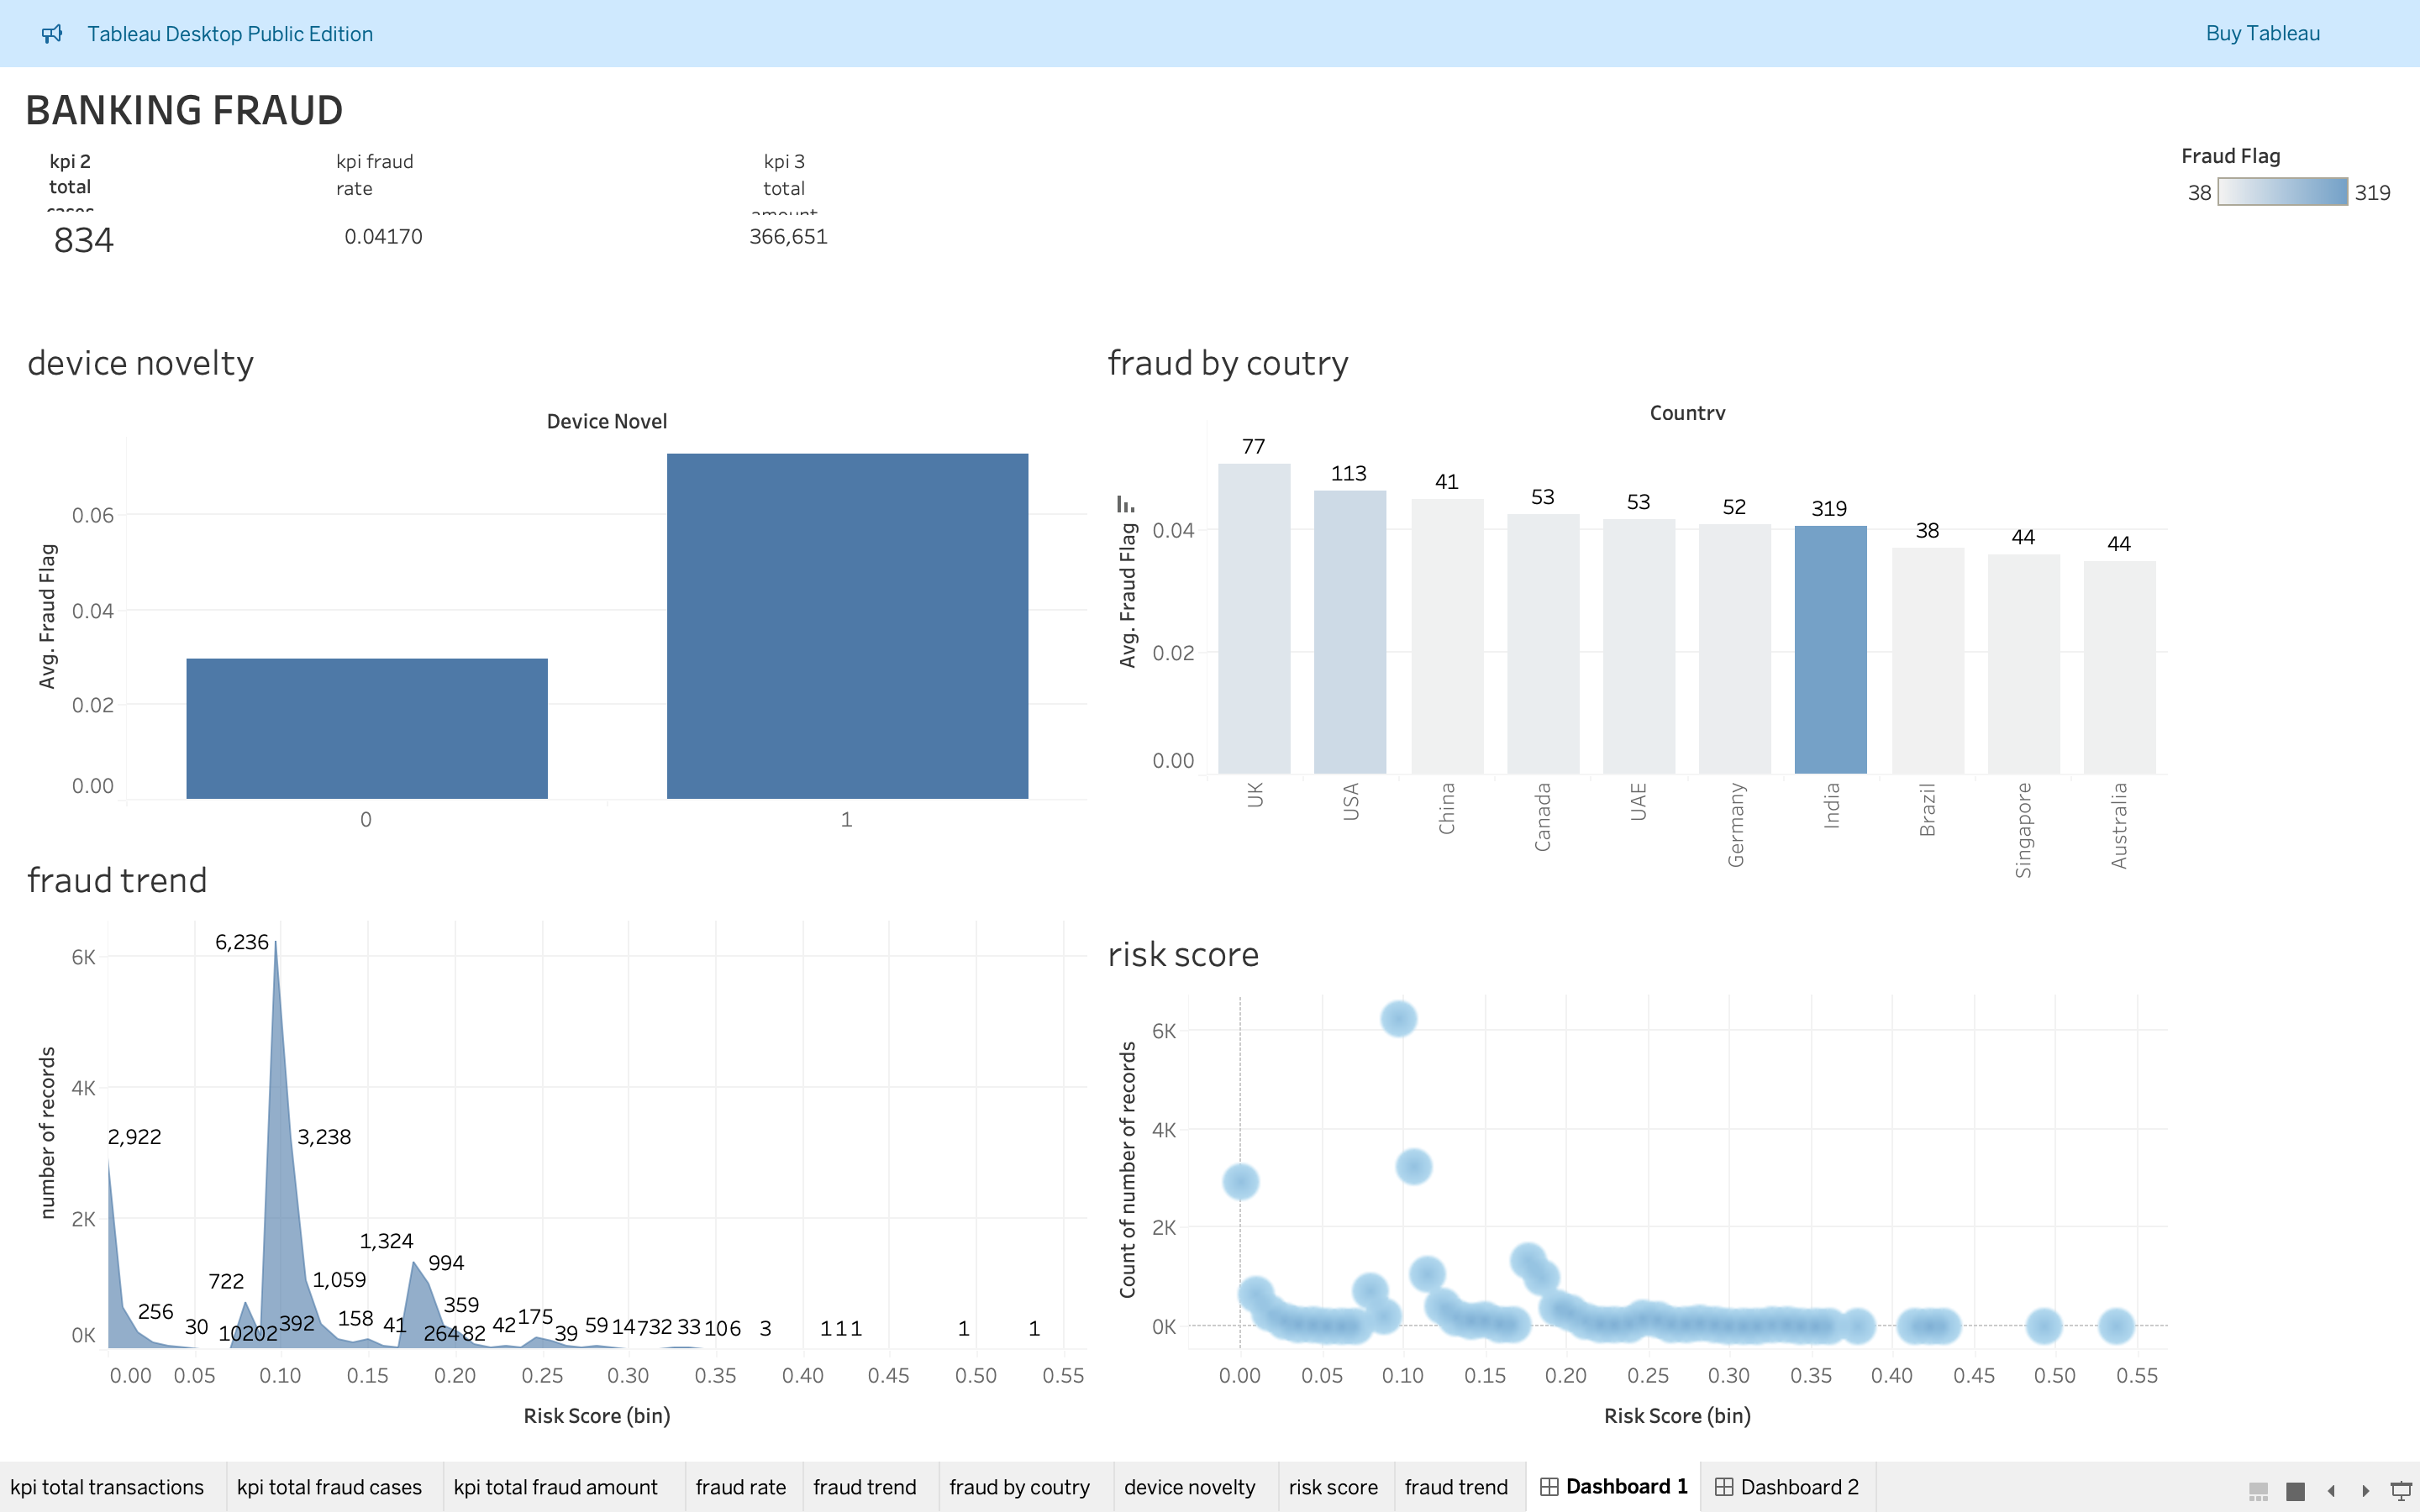

The page's visual inventory and layout, read from the dashboard file:
{"tool":"tableau","page":{"name":"Dashboard 1","canvas":[1000,1000],"units":"permille","ordinal":0},"visuals":[{"type":"title","box":[6.5,11.8,987,47.1]},{"type":"worksheet","title":"kpi total fraud cases","mark":"Text","box":[6.5,58.9,125.4,134.4]},{"type":"worksheet","title":"fraud rate","mark":"Automatic","box":[131.9,58.9,163.5,134.4]},{"type":"worksheet","title":"kpi total fraud amount ","mark":"Automatic","box":[295.4,58.9,585.8,134.4]},{"type":"legend","title":"fraud by coutry ","param":"[federated.1lycqhu0mnhw8y16bqk5w08ctj57].[sum:FraudFlag:qk]","box":[881.2,58.9,112.3,95.7]},{"type":"worksheet","title":"device novelty ","mark":"Automatic","rows":["FraudFlag"],"cols":["DeviceNovel"],"box":[6.5,193.4,437.3,365.9]},{"type":"worksheet","title":"fraud by coutry ","mark":"Automatic","rows":["FraudFlag"],"cols":["Country"],"box":[443.8,193.4,437.4,417.8]},{"type":"worksheet","title":"fraud trend","mark":"Area","rows":["Calculation_3605518362972165"],"cols":["Risk Score (bin)"],"box":[6.5,559.3,437.3,428.9]},{"type":"worksheet","title":"risk score","mark":"Heatmap","rows":["Calculation_3605518362972165"],"cols":["Risk Score (bin)"],"box":[443.8,611.1,437.4,377.1]}]}

Visuals, with their boxes on the dashboard's canvas, which has no fixed pixel size, in thousandths of its width and height (x1, y1, x2, y2). These are canvas units, not pixel positions in the 2420x1512 screenshot, which may show the page scaled, cropped or inside an application window:
title: rect(6, 12, 994, 59)
"kpi total fraud cases" worksheet (Text marks): rect(6, 59, 132, 193)
"fraud rate" worksheet: rect(132, 59, 295, 193)
"kpi total fraud amount " worksheet: rect(295, 59, 881, 193)
"fraud by coutry " legend: rect(881, 59, 994, 155)
"device novelty " worksheet: rect(6, 193, 444, 559)
"fraud by coutry " worksheet: rect(444, 193, 881, 611)
"fraud trend" worksheet (Area marks): rect(6, 559, 444, 988)
"risk score" worksheet (Heatmap marks): rect(444, 611, 881, 988)
